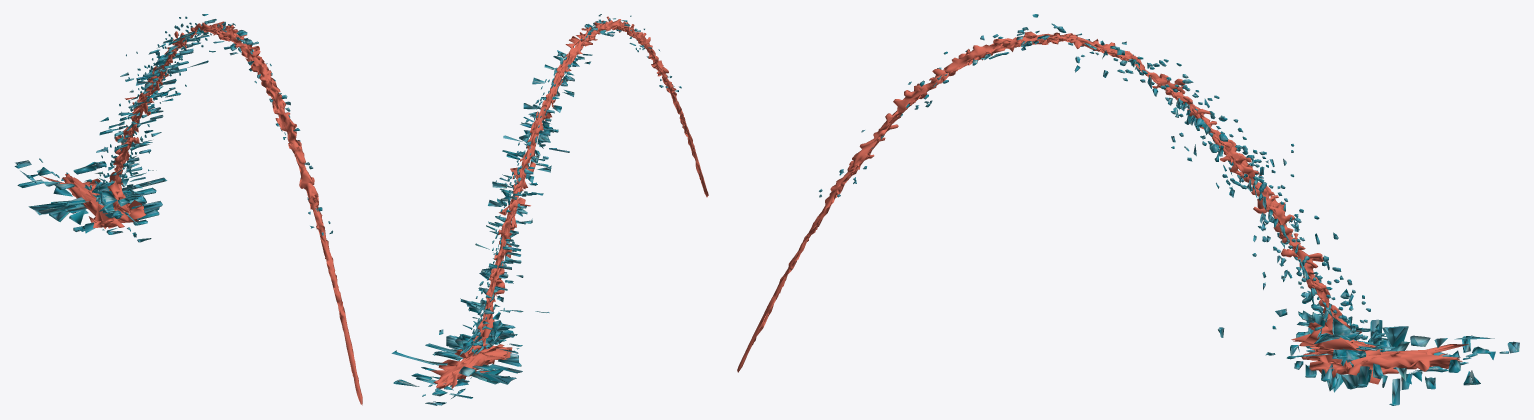
The model's file is sangre.gltf.
3 renders of one model, left to right at view 1: azimuth 30°, elevation 25°; view 2: azimuth 150°, elevation 25°; view 3: azimuth 270°, elevation 25°, orthographic. The views are drawn at different scales.
Parts seen in each view (by area): view 1: sangre.001; view 2: sangre.001; view 3: sangre.001.
Part boxes in pixels (x1=…): sangre.001: x1=14, y1=14, x2=362, y2=405; sangre.001: x1=391, y1=14, x2=708, y2=405; sangre.001: x1=737, y1=14, x2=1519, y2=405.
Size of the model in its own units: 2.67 by 5.6 by 11.13.
Materials: 2 (1 with a texture image).
